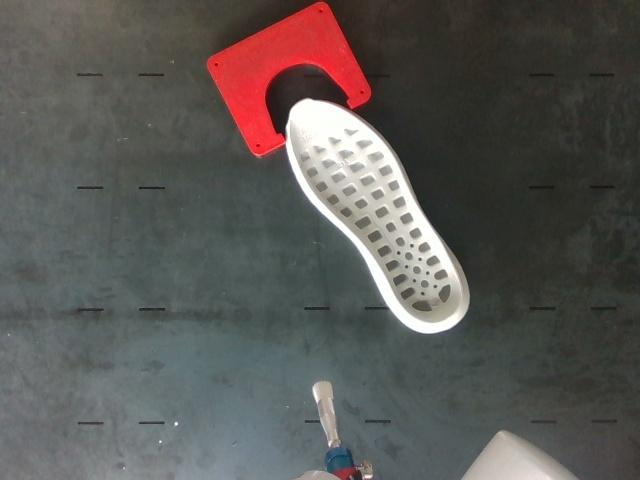shoes: (290, 100, 463, 323)
